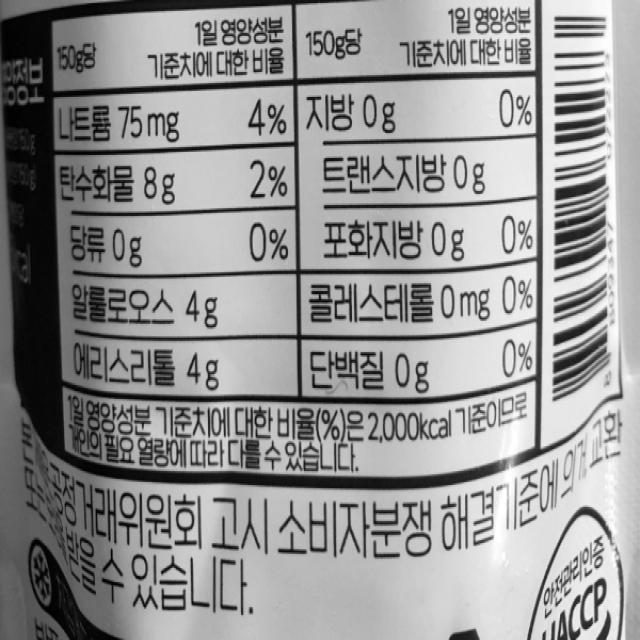Nutrition Label: (0, 1, 543, 476)
